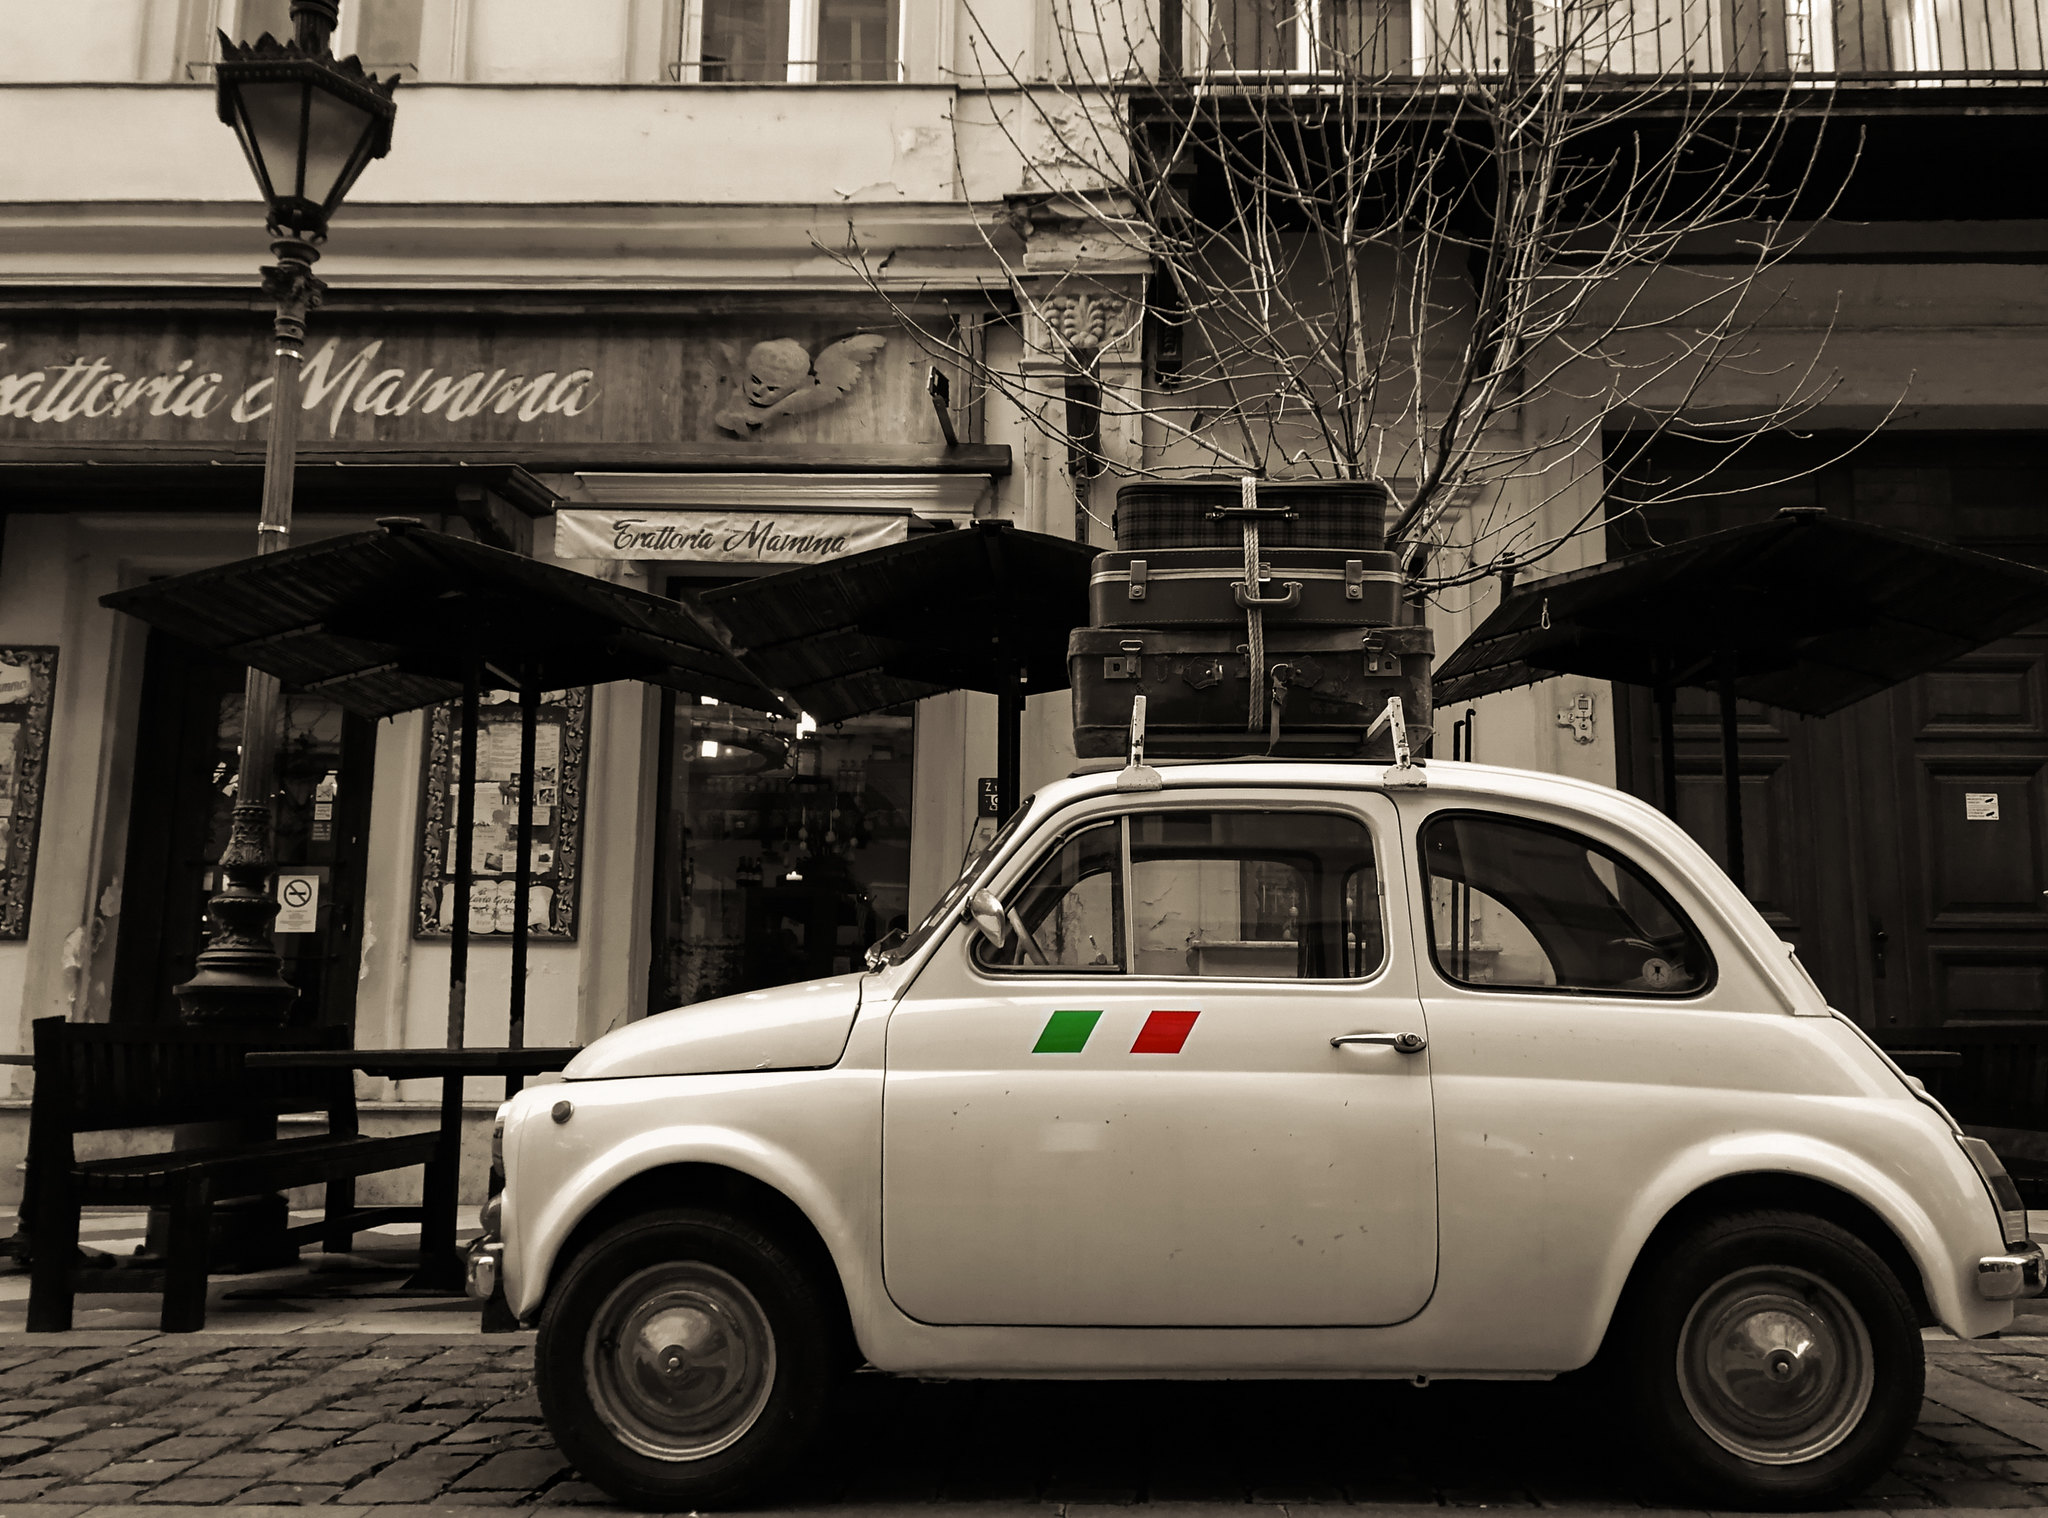car: (485, 740, 2048, 1489)
